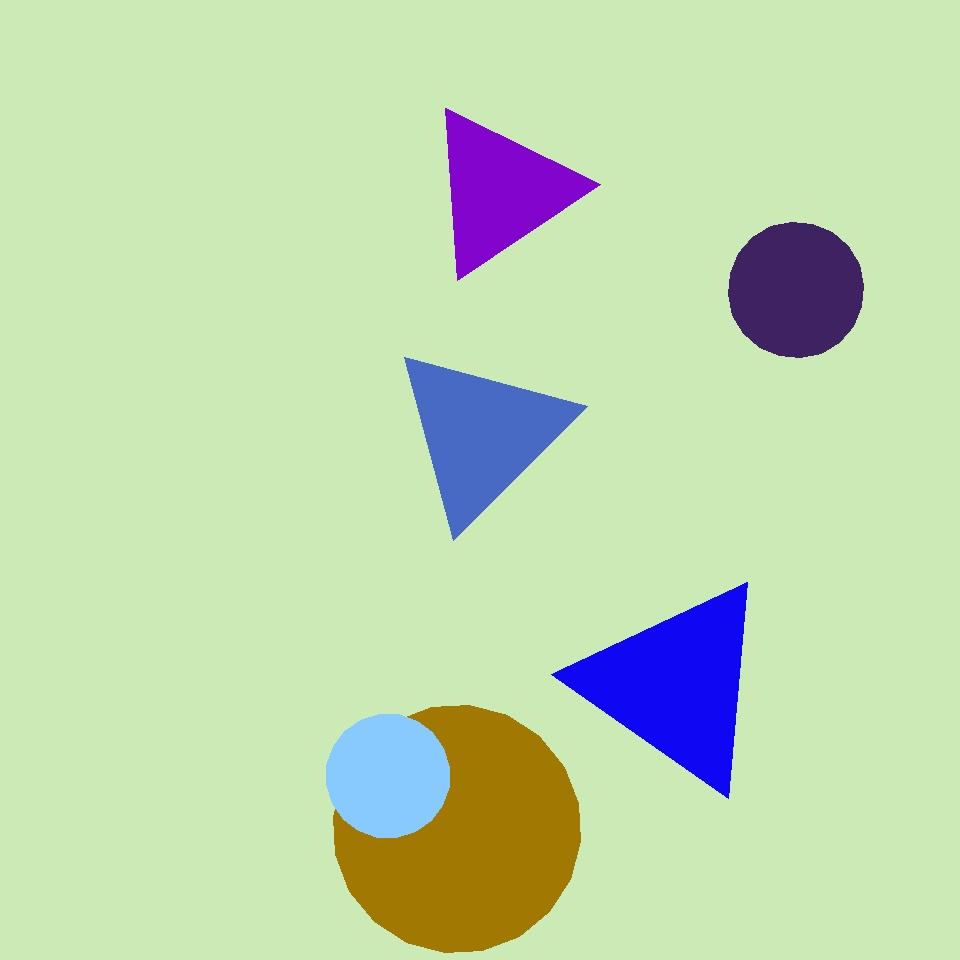circle: (578, 577, 774, 793), (390, 344, 574, 526), (423, 105, 578, 277)
triangle: (334, 706, 580, 952), (562, 314, 802, 554), (728, 222, 864, 358), (326, 714, 450, 838), (166, 101, 287, 222)
